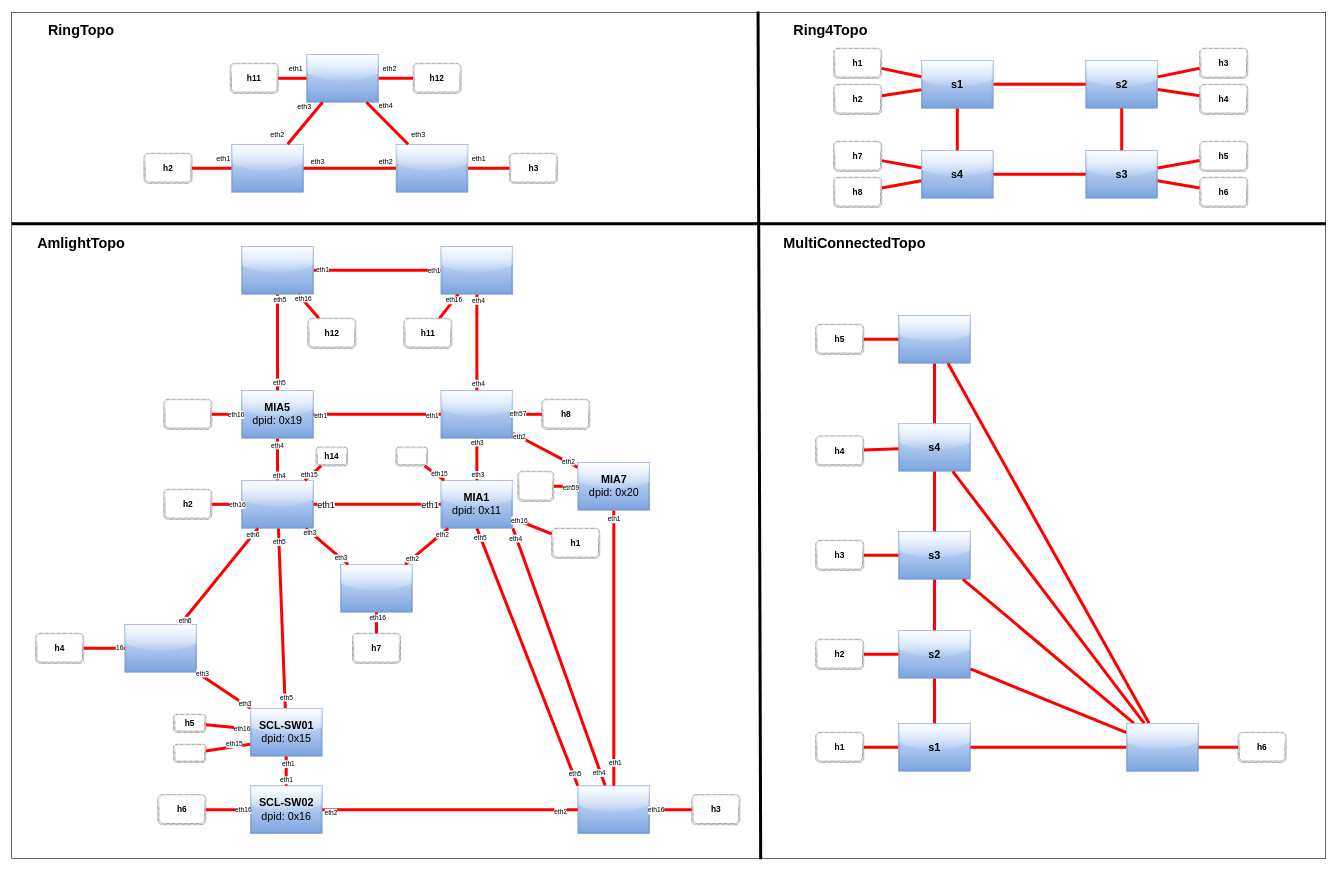
This 1338x872 diagram has some shape labels left out. The shapes that lost their labels are listed below. From the top down, each one's centre as x and y in pixels, then its label:
(342,78): Switch01
(267,168): Switch02
(432,168): Switch03
(277,270): JAX2 dpid: 0x22
(476,270): JAX1 dpid: 0x21
(934,339): s5
(187,414): h9
(476,414): MIA4 dpid: 0x18
(411,456): h13
(277,504): MIA2 dpid: 0x12
(535,486): h10
(376,588): MIA3 dpid: 0x17
(160,648): SJU dpid: 0x14
(189,753): h15
(1162,747): s6
(613,809): SPO dpid: 0x13
